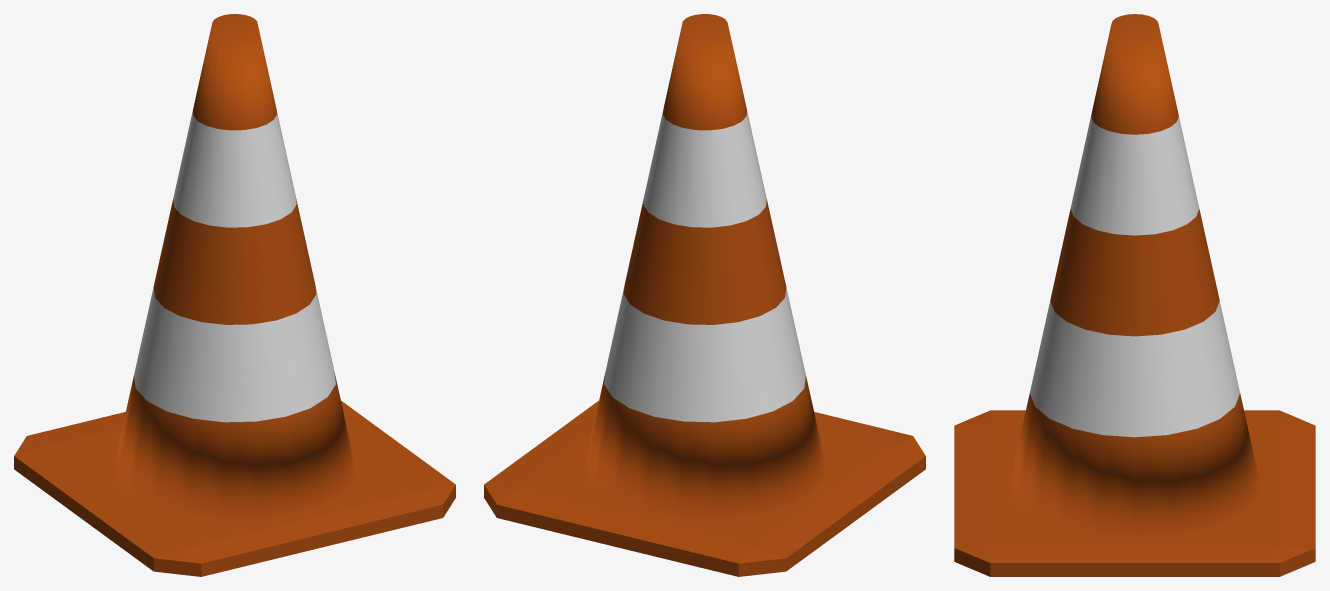
File: Traffic cone.fbx
3 views of the same model, side by side, from view 1: azimuth 30°, elevation 25°; view 2: azimuth 150°, elevation 25°; view 3: azimuth 270°, elevation 25° (orthographic). The views are drawn at different scales.
Parts seen in each view (by area): view 1: Traffic cone; view 2: Traffic cone; view 3: Traffic cone.
Part boxes in pixels (x1=…): Traffic cone: x1=14, y1=14, x2=455, y2=576; Traffic cone: x1=484, y1=14, x2=925, y2=576; Traffic cone: x1=954, y1=14, x2=1315, y2=576.
Size of the model in its own units: 164 by 240 by 164.
